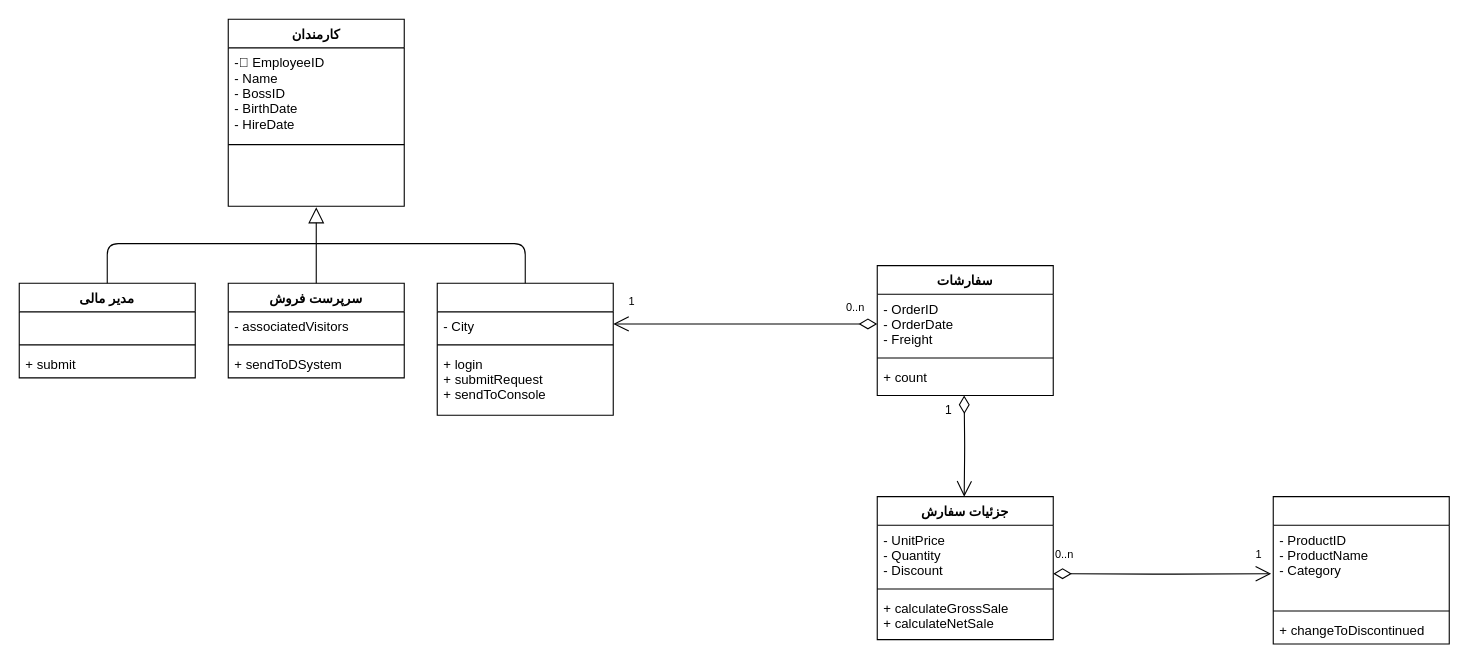
The diagram is 1469 pixels wide and 667 high, and some of its shapes have lost their labels. Here are the shapes that lost their labels. From the top down, the box of each, then its label:
(436, 282, 613, 415): ویزیتور تلفنی
(1272, 496, 1449, 644): محصولات
